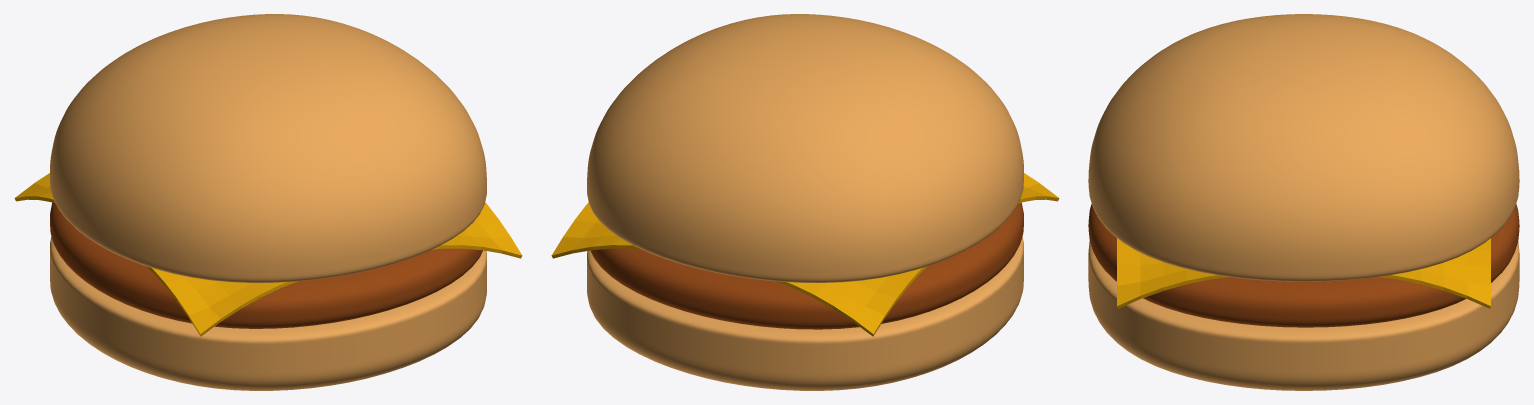
File: hamburger.glb
The picture shows the model from 3 angles, left to right: view 1: azimuth 30°, elevation 25°; view 2: azimuth 150°, elevation 25°; view 3: azimuth 270°, elevation 25°; orthographic projection.
Visible parts, largest first — view 1: Cube.002, Cube, Cube.001, Plane; view 2: Cube.002, Cube, Cube.001, Plane; view 3: Cube.002, Cube, Cube.001, Plane.
Part boxes in pixels (bbox=[...]): Cube.002: bbox=[50, 14, 486, 282]; Cube: bbox=[50, 236, 486, 390]; Cube.001: bbox=[50, 203, 482, 328]; Plane: bbox=[14, 173, 522, 336]; Cube.002: bbox=[587, 14, 1023, 282]; Cube: bbox=[587, 236, 1023, 390]; Cube.001: bbox=[590, 203, 1023, 329]; Plane: bbox=[551, 173, 1059, 336]; Cube.002: bbox=[1088, 14, 1519, 281]; Cube: bbox=[1088, 241, 1519, 390]; Cube.001: bbox=[1088, 204, 1519, 327]; Plane: bbox=[1117, 238, 1490, 308].
Bounding box in the file's own units: 9.08 × 6.51 × 9.08.
